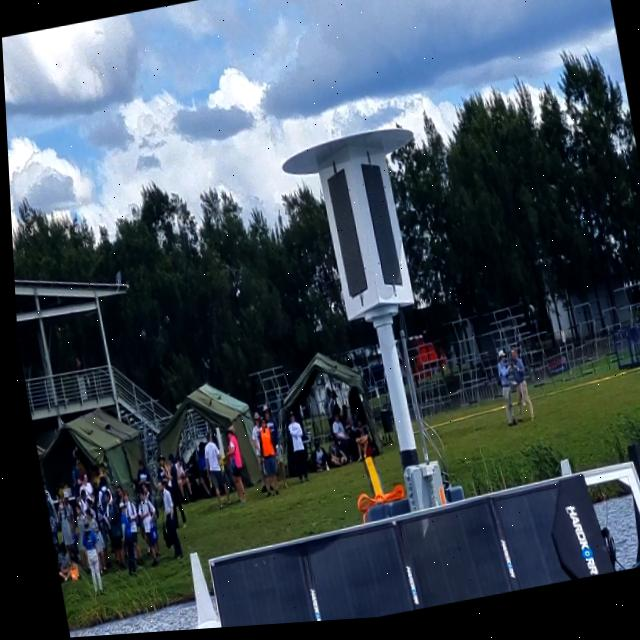led: (319, 157, 404, 310), (348, 152, 405, 304), (317, 162, 371, 312)
